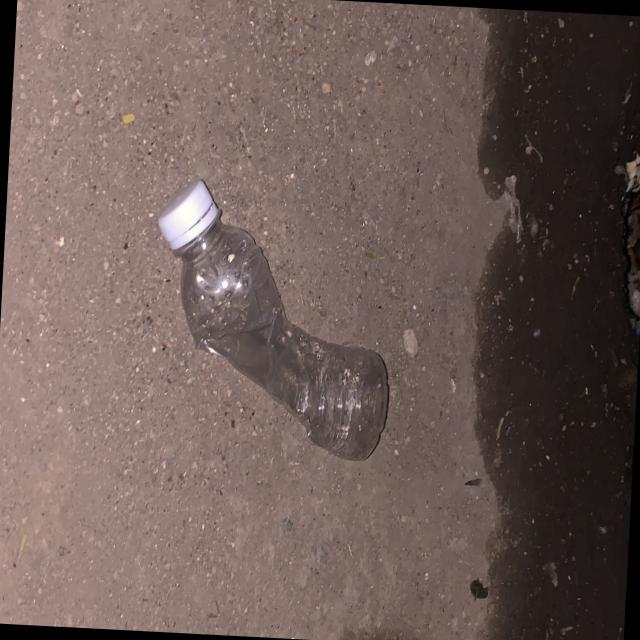Bottle: (157, 179, 388, 461)
